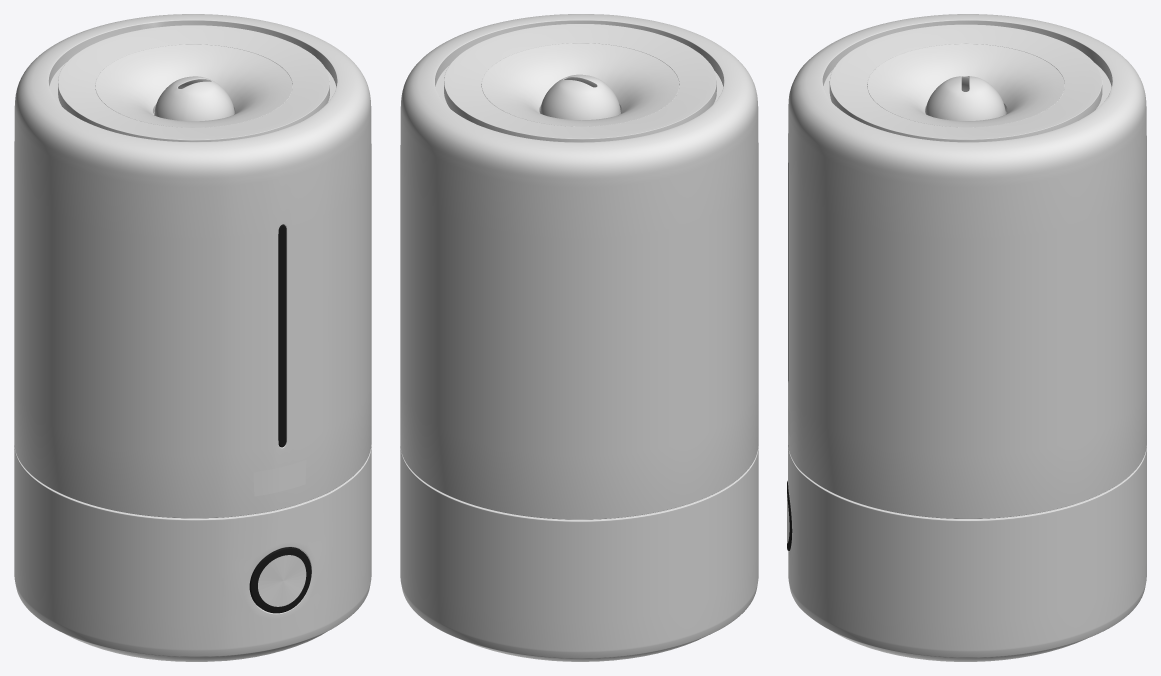
Rendered from MI_Humidifier.fbx.
3 renders of one model, left to right at view 1: azimuth 30°, elevation 25°; view 2: azimuth 150°, elevation 25°; view 3: azimuth 270°, elevation 25°, orthographic.
Parts seen in each view (by area): view 1: MI_Humidifier; view 2: MI_Humidifier; view 3: MI_Humidifier.
Boxes of the visible parts, x1,y1,x2,y2 form: MI_Humidifier: (14, 14, 371, 661); MI_Humidifier: (400, 14, 758, 661); MI_Humidifier: (787, 14, 1146, 661).
Size of the model in its own units: 186 by 295 by 187.
Materials: 2 (2 with a texture image).
